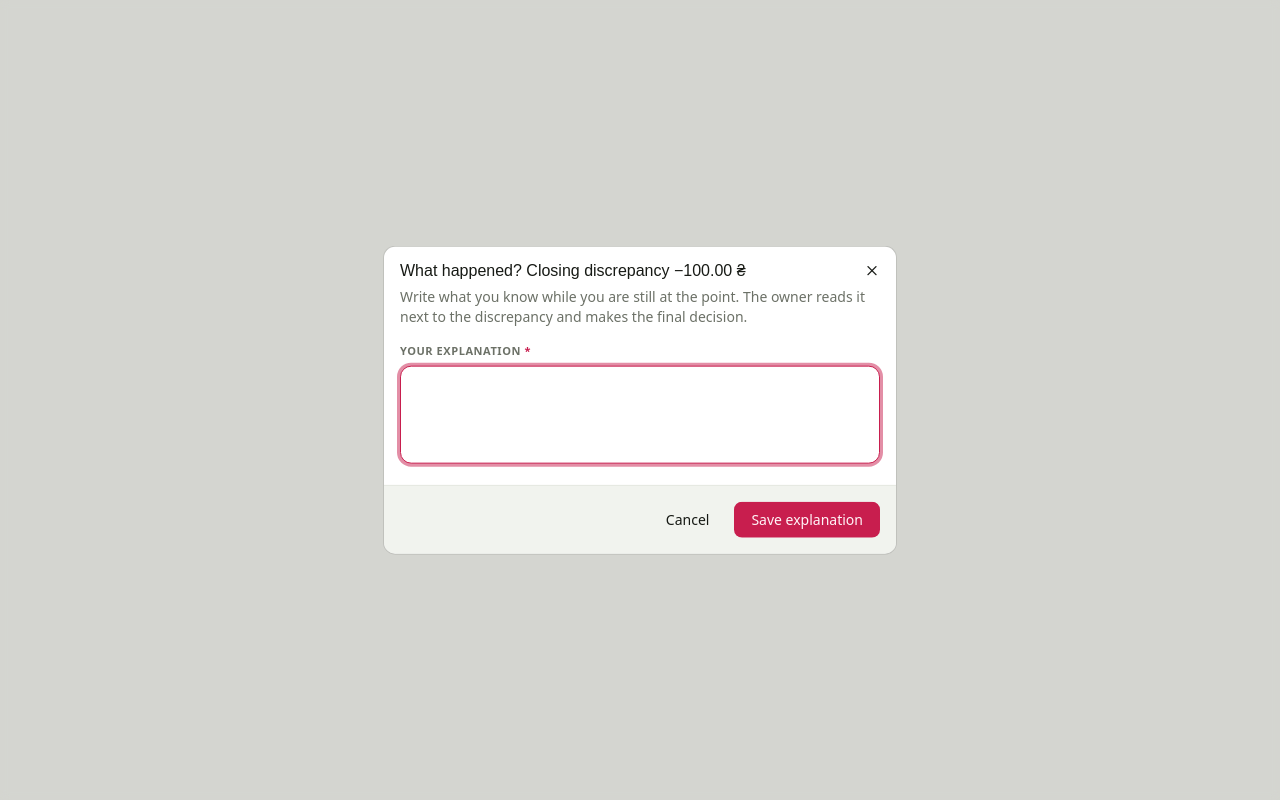
it: OperatorNoteDialog › someone else’s drawer: NOT_COUNTER reads as its own sentence
The image size is (1280, 800).
In the text box labelled "Your explanation": (640, 414) [400,365,880,463], type "причина"
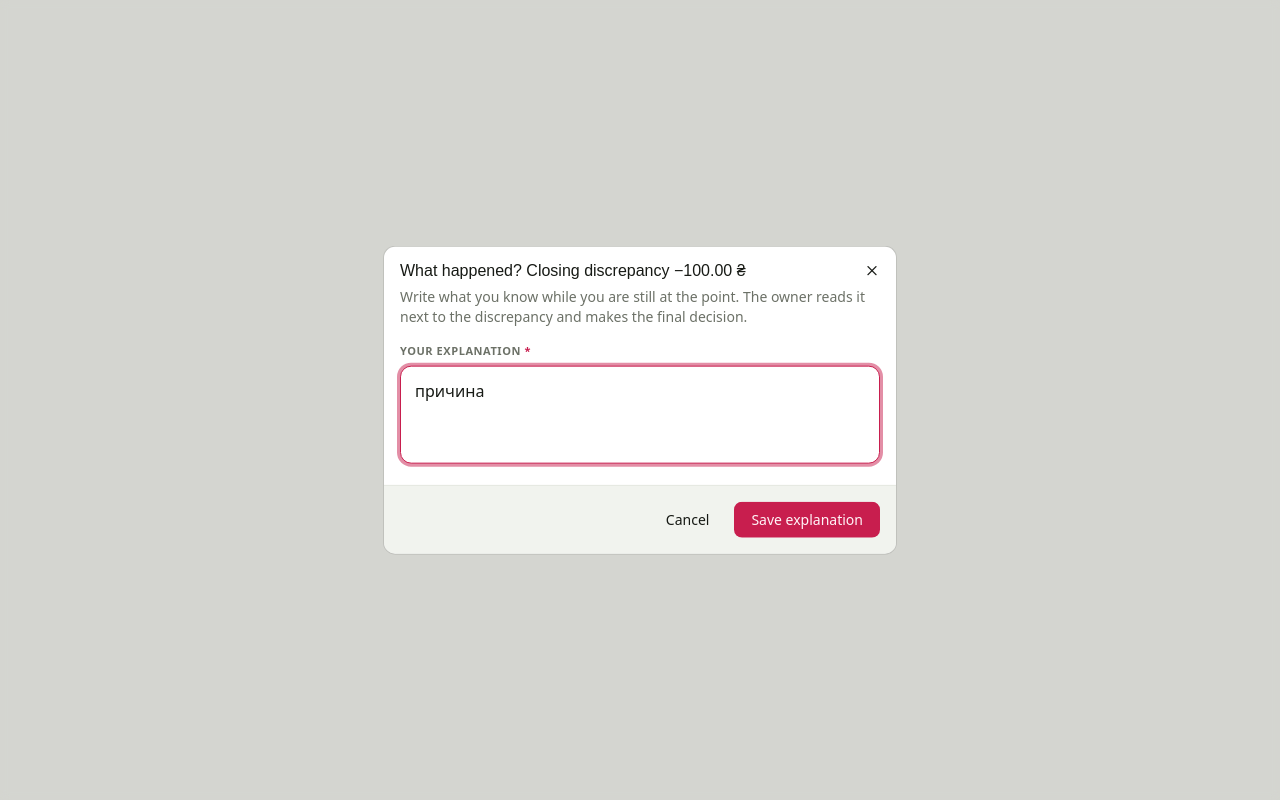
Click the button "Save explanation": (807, 519) [734,501,880,537]
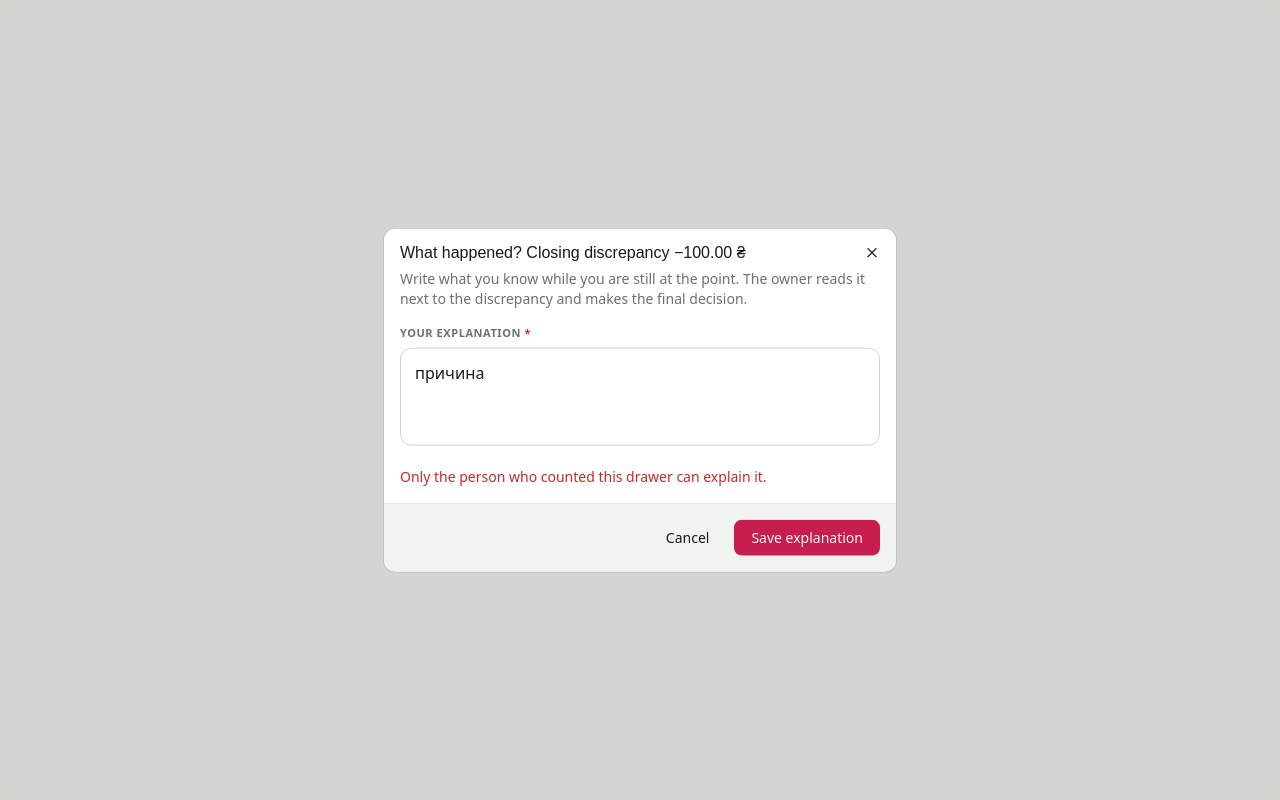
Expected: the text "Only the person who counted this drawer can explain it." is shown, [400,466,767,485]
